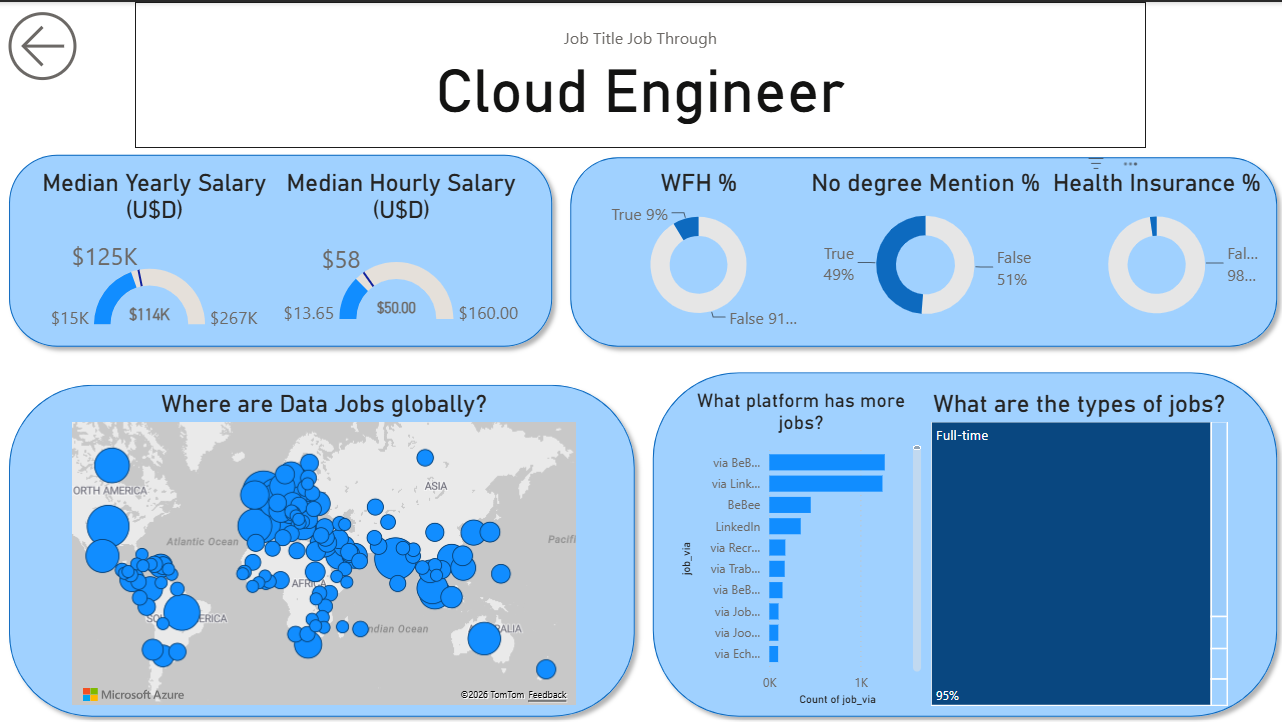

Layout of this report page (visuals, bound fields, positions):
{"tool":"powerbi","page":{"name":"Job Title Drill Through","canvas":[1280,720],"ordinal":1},"visuals":[{"type":"group","id":"g1","title":"Backgroudn drill","box":[0,143.1,1280,577.2],"z":0},{"type":"cardVisual","fields":{"Data":["Min(job_postings_flat.job_title_short)1"]},"box":[134.3,0,1006.4,145.5],"z":1000},{"type":"actionButton","box":[0,0,84.6,88.3],"z":2000},{"type":"gauge","title":"Median Yearly Salary (U$D)","fields":{"MaxValue":["Max(job_postings_flat.salary_year_avg)2"],"MinValue":["Min(job_postings_flat.salary_year_avg)1"],"TargetValue":["Avg(job_postings_flat.salary_year_avg)"],"Y":["Median(job_postings_flat.salary_year_avg)"]},"box":[34.8,165.4,237.6,165.4],"z":3000},{"type":"gauge","title":"Median Hourly Salary (U$D)","fields":{"MaxValue":["Max(job_postings_flat.salary_hour_avg)"],"MinValue":["Min(job_postings_flat.salary_hour_avg)"],"TargetValue":["Avg(job_postings_flat.salary_hour_avg)"],"Y":["Median(job_postings_flat.salary_hour_avg)"]},"box":[272.4,165.4,253.8,165.4],"z":4000},{"type":"donutChart","title":"WFH %","fields":{"Category":["job_postings_flat.job_work_from_home"],"Y":["CountNonNull(job_postings_flat.job_work_from_home)"]},"box":[590.9,165.4,209,165.4],"z":5000},{"type":"donutChart","title":"No degree Mention %","fields":{"Category":["job_postings_flat.job_no_degree_mention"],"Y":["CountNonNull(job_postings_flat.job_work_from_home)"]},"box":[799.9,165.4,242.6,165.4],"z":6000},{"type":"donutChart","title":"Health Insurance %","fields":{"Category":["job_postings_flat.job_health_insurance"],"Y":["CountNonNull(job_postings_flat.job_work_from_home)"]},"box":[1042.4,165.4,217.7,165.4],"z":7000},{"type":"azureMap","title":"Where are Data Jobs globally?","fields":{"Category":["job_postings_flat.job_country"],"Size":["CountNonNull(job_postings_flat.job_title_short)"]},"box":[67.2,385.6,511.3,319.7],"z":8000},{"type":"treemap","title":"What are the types of jobs?","fields":{"Group":["job_postings_flat.job_schedule_type"],"Values":["CountNonNull(job_postings_flat.job_schedule_type)"]},"box":[921.8,385.6,304.8,319.7],"z":9000},{"type":"barChart","title":"What platform has more jobs?","fields":{"Category":["job_postings_flat.job_via"],"Y":["CountNonNull(job_postings_flat.job_via)"]},"box":[673,385.6,248.8,319.7],"z":10000},{"type":"shape","box":[0,143.1,558.5,209],"z":12125,"group":"g1"},{"type":"shape","box":[558.5,145.6,721.5,206.5],"z":12250,"group":"g1"},{"type":"shape","box":[0,372,640.6,348.3],"z":12500,"group":"g1"},{"type":"shape","box":[640.6,359.5,639.4,360.7],"z":13000,"group":"g1"}]}

Visuals, with their boxes in screenshot pixels (x1, y1, x2, y2), scaled from the page's 1280x720 canvas onto the 1282x722 screenshot:
"Backgroudn drill" group: (x1=0, y1=143, x2=1281, y2=721)
cardVisual - Min(job_postings_flat.job_title_short)1: (x1=135, y1=0, x2=1142, y2=146)
actionButton: (x1=0, y1=0, x2=85, y2=89)
"Median Yearly Salary (U$D)" gauge: (x1=35, y1=166, x2=273, y2=332)
"Median Hourly Salary (U$D)" gauge: (x1=273, y1=166, x2=527, y2=332)
"WFH %" donutChart: (x1=592, y1=166, x2=801, y2=332)
"No degree Mention %" donutChart: (x1=801, y1=166, x2=1044, y2=332)
"Health Insurance %" donutChart: (x1=1044, y1=166, x2=1262, y2=332)
"Where are Data Jobs globally?" azureMap: (x1=67, y1=387, x2=579, y2=707)
"What are the types of jobs?" treemap: (x1=923, y1=387, x2=1229, y2=707)
"What platform has more jobs?" barChart: (x1=674, y1=387, x2=923, y2=707)
shape: (x1=0, y1=143, x2=559, y2=353)
shape: (x1=559, y1=146, x2=1281, y2=353)
shape: (x1=0, y1=373, x2=642, y2=721)
shape: (x1=642, y1=360, x2=1281, y2=721)
